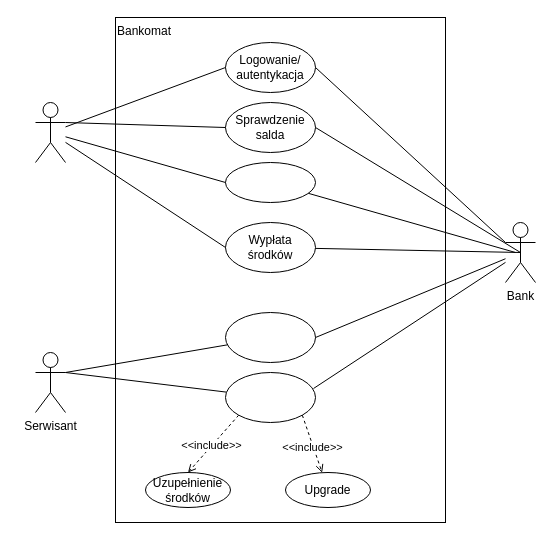
Some shapes in this 553 by 540 pixel diagram are drawn without their labels. The shapes that lost their labels are listed below. From the top down, each one's box as (x1, y1, x2, y2) in pixels, then its label:
(34, 102, 66, 162): Klient banku
(224, 162, 316, 202): Wpłata środków
(224, 312, 316, 362): Naprawa
(224, 372, 316, 422): Utzrymanie
